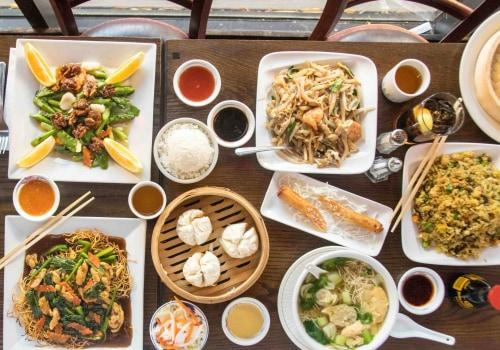Braised Crucian Carp: (5, 37, 158, 182), (2, 215, 147, 349), (253, 50, 377, 173), (150, 186, 268, 301), (277, 246, 399, 348), (400, 143, 499, 265), (261, 170, 390, 255), (457, 7, 500, 142)
